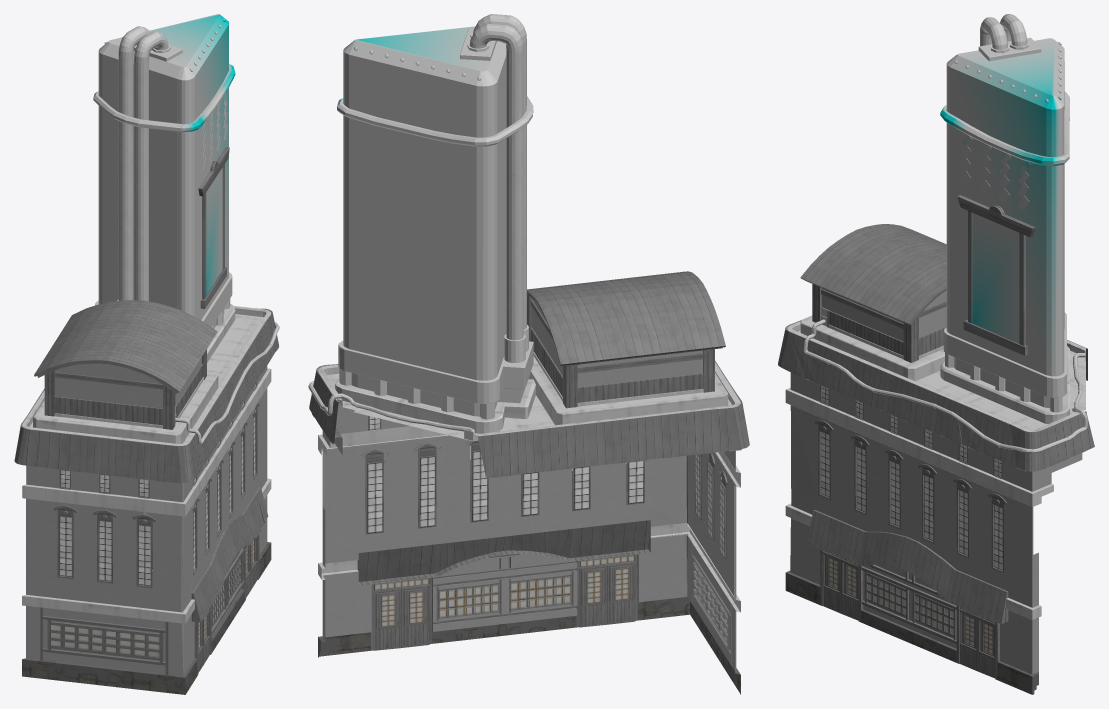
File: SM_ENV_KNVLLG_AreaB_Building_A_Part_01.mo.001.fbx
3 views of the same model, side by side, from view 1: azimuth 30°, elevation 25°; view 2: azimuth 150°, elevation 25°; view 3: azimuth 270°, elevation 25° (orthographic). The views are drawn at different scales.
Parts seen in each view (by area): view 1: SM_ENV_KNVLLG_AreaB_Building_A_Part_01.mo.001; view 2: SM_ENV_KNVLLG_AreaB_Building_A_Part_01.mo.001; view 3: SM_ENV_KNVLLG_AreaB_Building_A_Part_01.mo.001.
Boxes of the visible parts, box(x1,y1,x2,y2) form: SM_ENV_KNVLLG_AreaB_Building_A_Part_01.mo.001: box(14, 14, 279, 694); SM_ENV_KNVLLG_AreaB_Building_A_Part_01.mo.001: box(308, 14, 749, 694); SM_ENV_KNVLLG_AreaB_Building_A_Part_01.mo.001: box(778, 14, 1094, 694).
Size of the model in its own units: 28.87 by 49.48 by 23.56.
